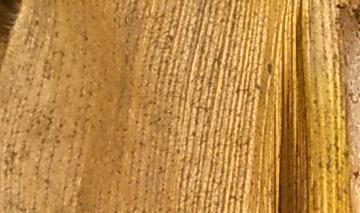tarspot: (350, 1, 360, 32), (265, 62, 274, 74), (351, 169, 360, 181), (334, 3, 347, 11), (353, 31, 359, 40)
